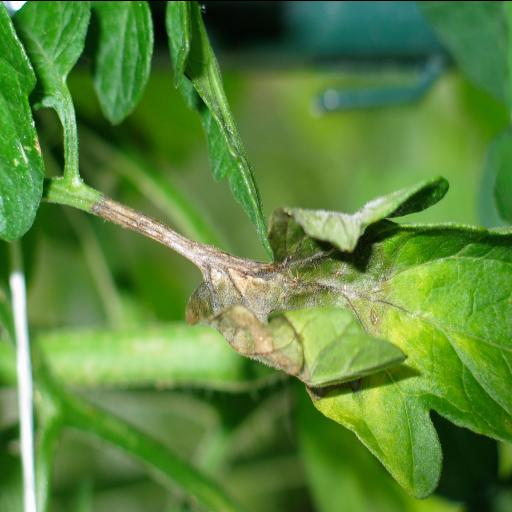disease_tomato: (170, 181, 512, 505)
